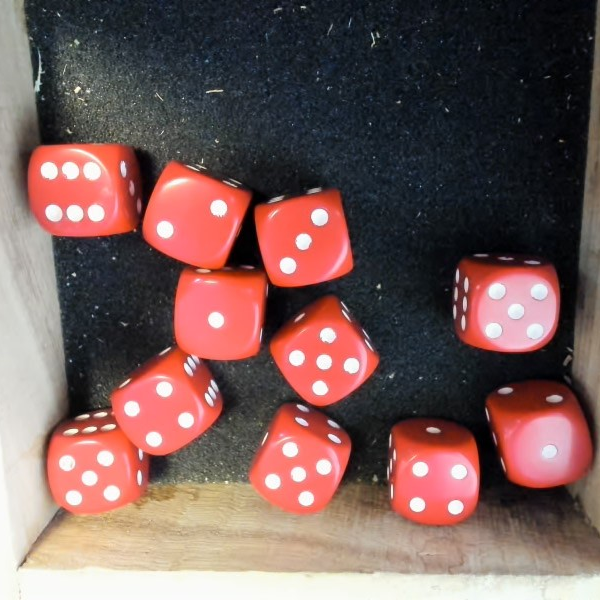red_die_pip1: (486, 373, 595, 492), (166, 264, 271, 363)
red_die_pip2: (129, 148, 261, 282)
red_die_pip3: (245, 174, 362, 294)
red_die_pip4: (97, 331, 236, 468), (379, 417, 482, 529)
red_die_pip5: (234, 389, 370, 532), (257, 284, 396, 423), (37, 410, 160, 521), (450, 247, 567, 354)
red_die_pip6: (26, 139, 142, 240)
